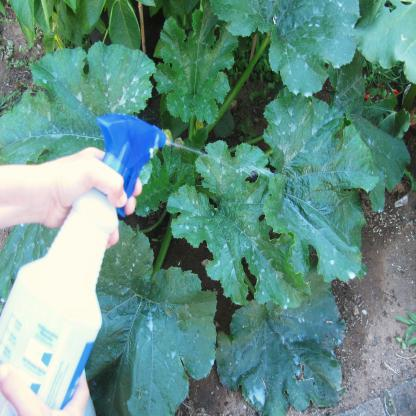Squash Powdery mildew leaf: (173, 139, 313, 310), (215, 0, 359, 108), (26, 41, 151, 119), (258, 86, 311, 164)
